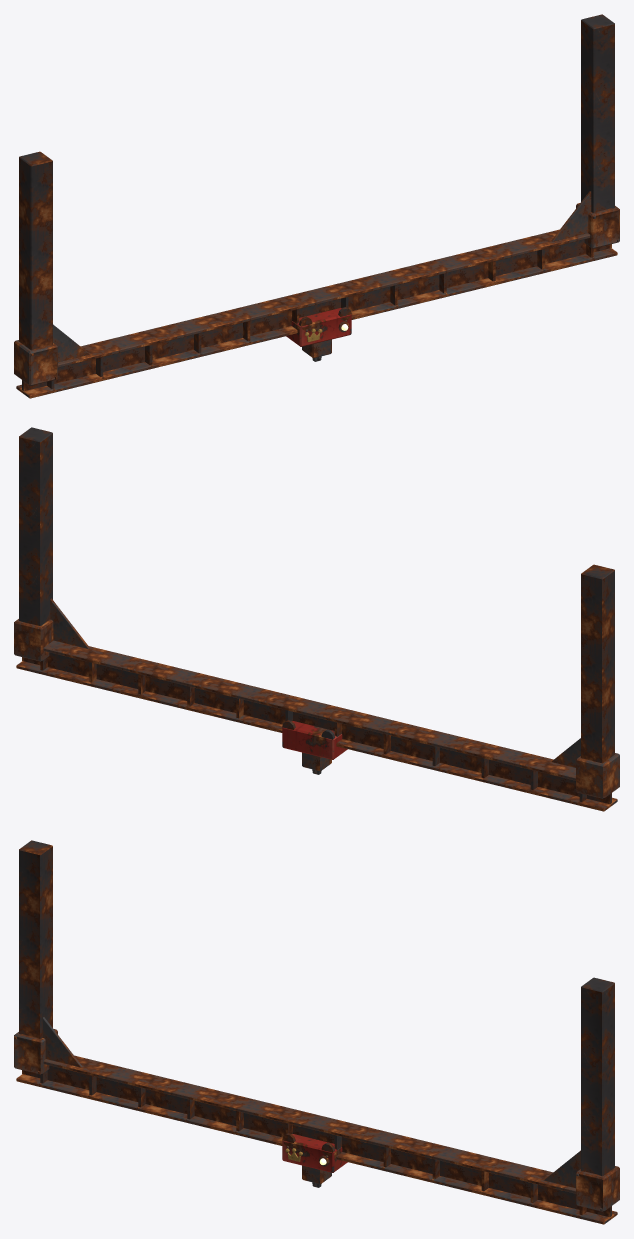
Rendered from Gantry_Rail.glb.
3 renders of one model, top to bottom at view 1: azimuth 30°, elevation 25°; view 2: azimuth 150°, elevation 25°; view 3: azimuth 330°, elevation 25°, orthographic.
Parts seen in each view (by area): view 1: Gantry_Rail; view 2: Gantry_Rail; view 3: Gantry_Rail.
Boxes of the visible parts, box(x1,y1,x2,y2) form: Gantry_Rail: box(14, 14, 619, 398); Gantry_Rail: box(14, 427, 619, 811); Gantry_Rail: box(14, 840, 619, 1224).
Size of the model in its own units: 9.04 by 3.96 by 0.592.
5 materials, 4 textured.
